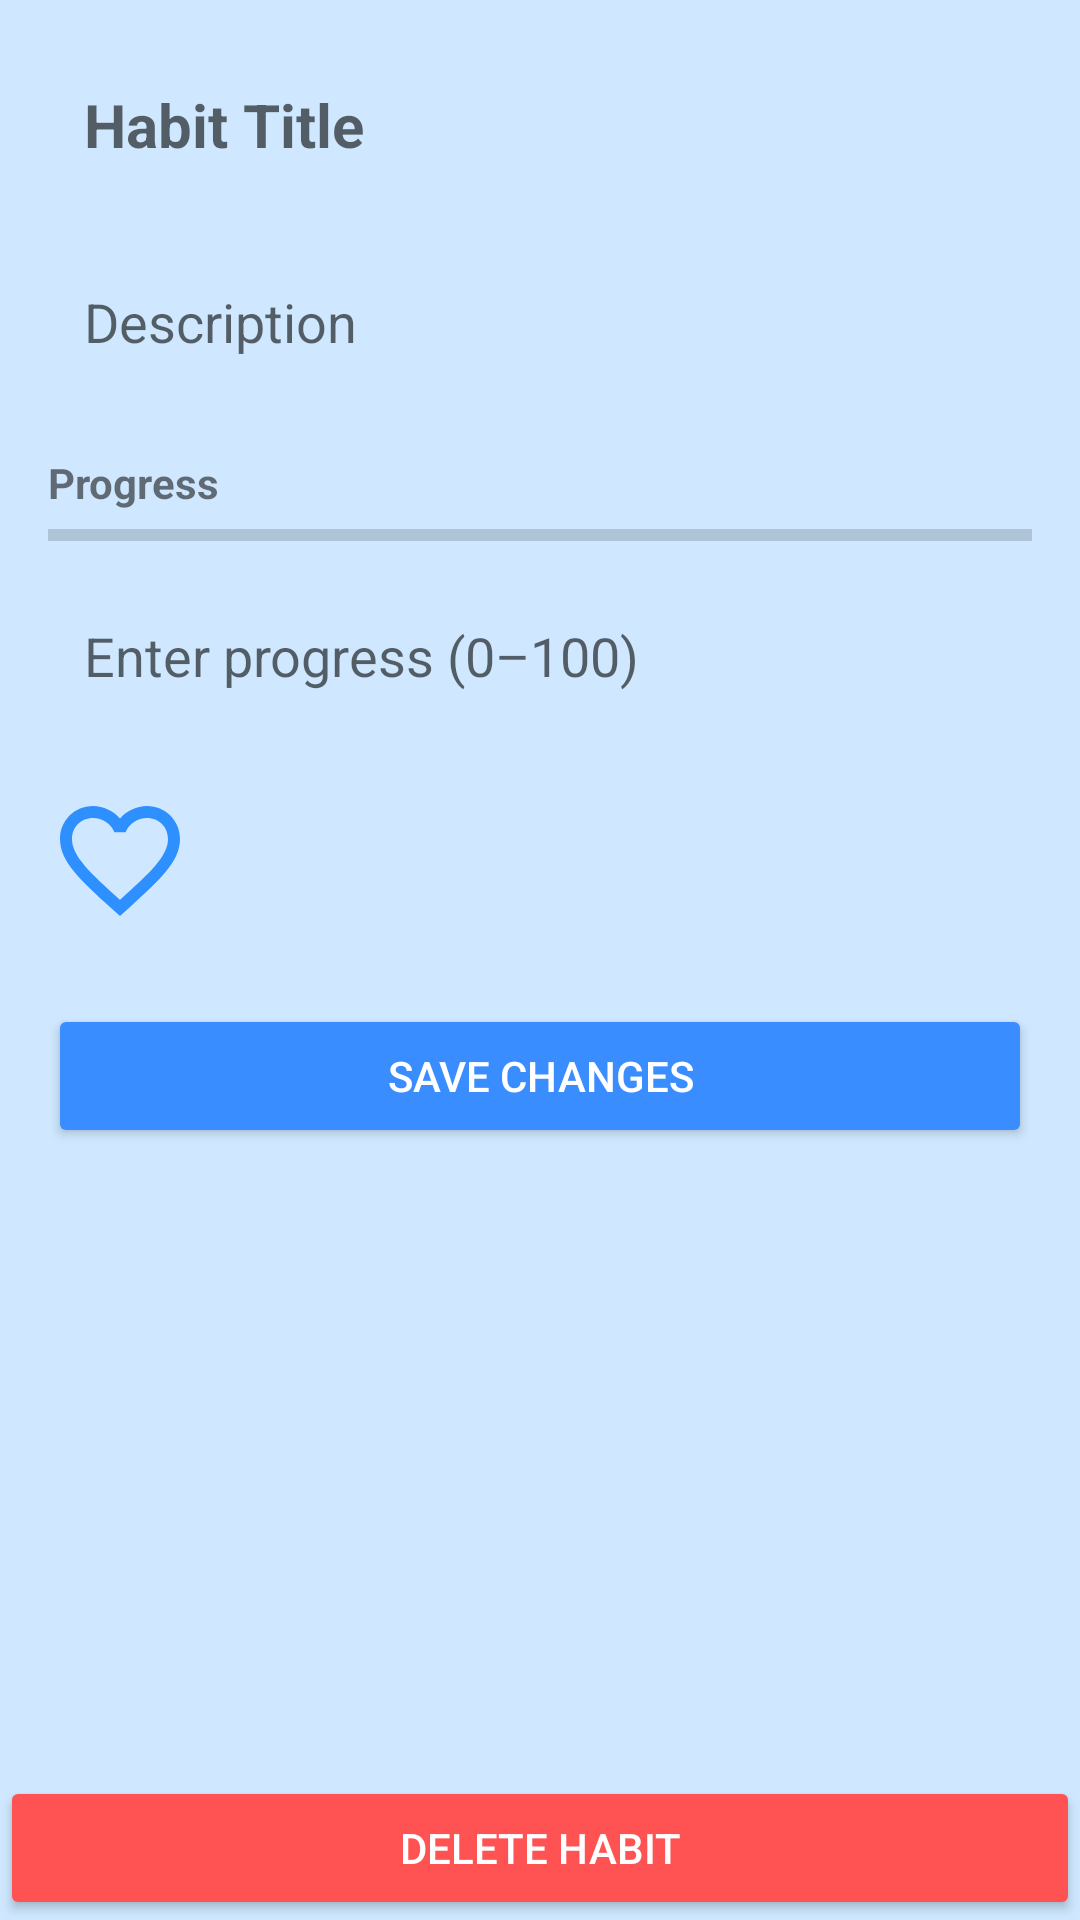

Icons on this 1080px×1920px Android screen, each with the point to tap as point (x, y):
favorite border: point (120, 861)
